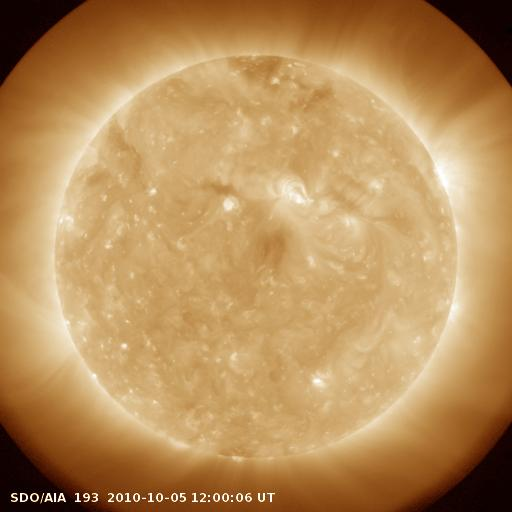coronal_hole: (223, 46, 289, 95)
